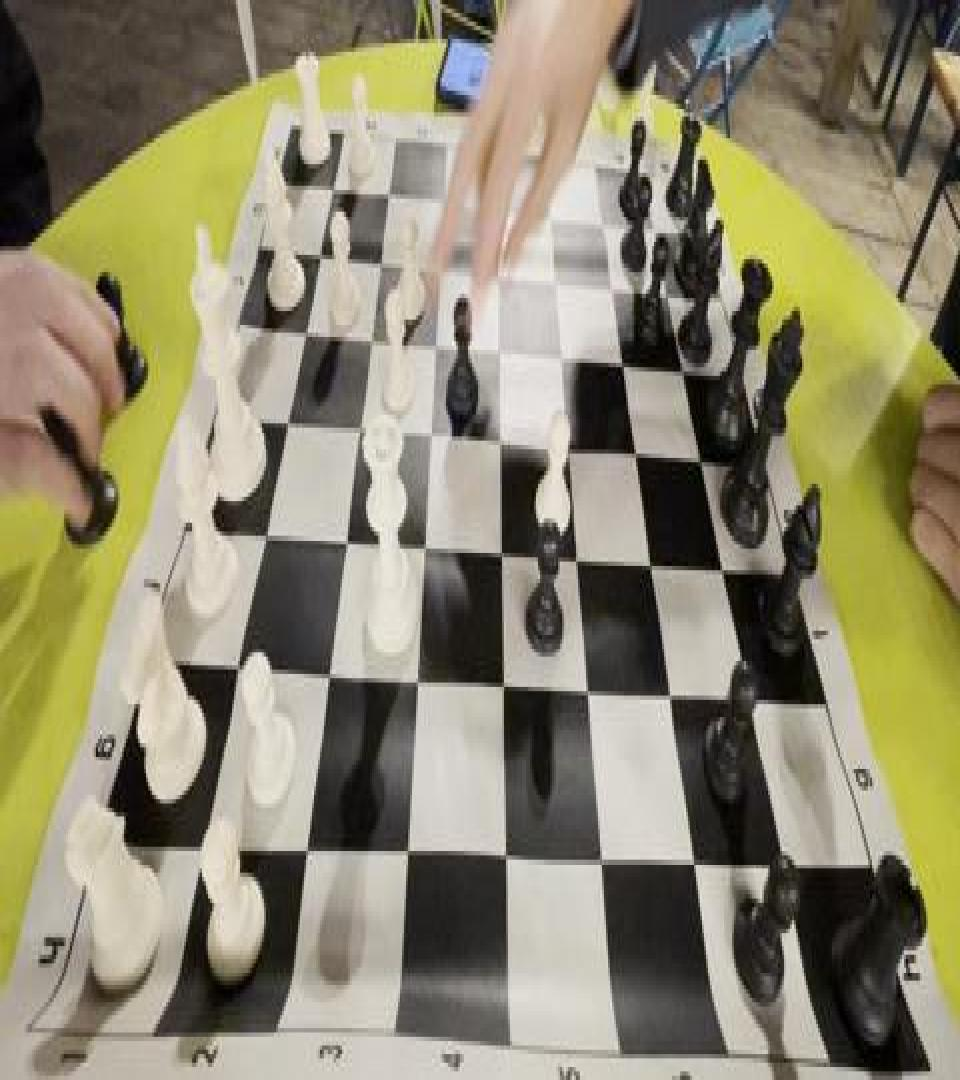xcorner: (377, 168, 397, 212), (309, 224, 329, 268), (612, 332, 632, 376), (550, 326, 570, 370), (359, 304, 379, 348), (556, 412, 576, 456), (275, 382, 295, 426), (563, 518, 583, 562), (252, 488, 272, 532), (657, 656, 677, 700), (188, 788, 208, 832), (645, 203, 665, 246), (593, 197, 613, 240), (540, 190, 560, 233), (432, 177, 452, 220), (322, 162, 342, 205), (658, 266, 678, 309), (544, 253, 564, 296), (486, 244, 506, 287), (369, 231, 389, 274), (673, 339, 693, 382), (487, 317, 507, 360), (423, 311, 443, 354), (293, 296, 313, 339), (691, 428, 711, 471), (624, 419, 644, 462), (487, 406, 507, 449), (417, 397, 437, 440), (346, 391, 366, 434), (639, 525, 659, 568), (487, 512, 507, 555), (410, 503, 430, 546), (332, 497, 352, 540), (739, 663, 759, 706), (573, 648, 593, 691), (401, 635, 421, 678), (313, 626, 333, 669), (224, 620, 244, 663), (680, 821, 700, 864), (585, 814, 605, 857), (488, 808, 508, 851), (290, 795, 310, 838), (486, 184, 506, 226), (602, 260, 622, 302), (428, 238, 448, 280), (713, 532, 733, 574), (488, 642, 508, 684), (773, 828, 793, 870), (390, 802, 410, 844)
